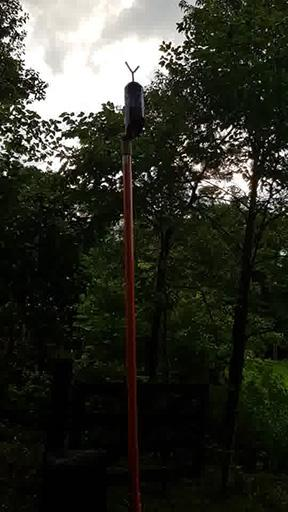Detector_Tensao_Contato: (122, 59, 145, 141)
Vara_Manobra: (119, 138, 137, 507)
